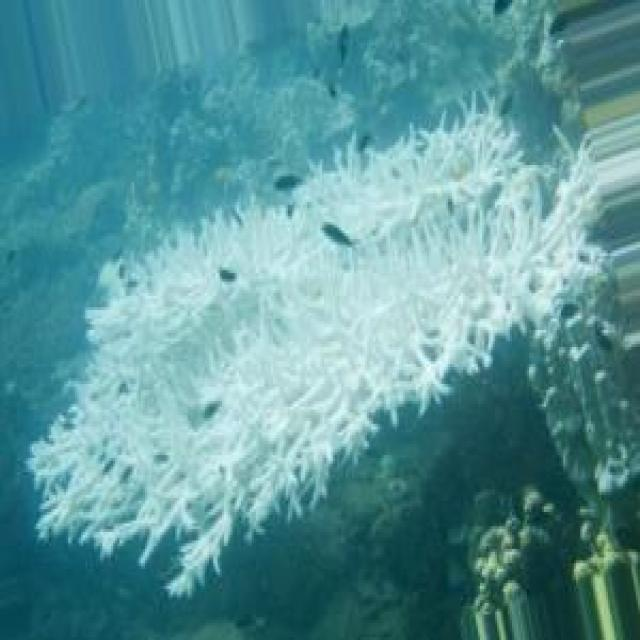bleached coral: (87, 267, 230, 341), (279, 327, 399, 415), (418, 270, 508, 381), (79, 410, 192, 486), (209, 353, 288, 455), (427, 139, 512, 222), (322, 188, 429, 253), (224, 245, 333, 307), (151, 526, 222, 597), (529, 225, 578, 304)
healthy coral: (55, 88, 181, 176), (203, 65, 326, 145), (375, 26, 495, 105), (361, 526, 431, 640), (34, 552, 102, 640), (482, 489, 540, 569)
